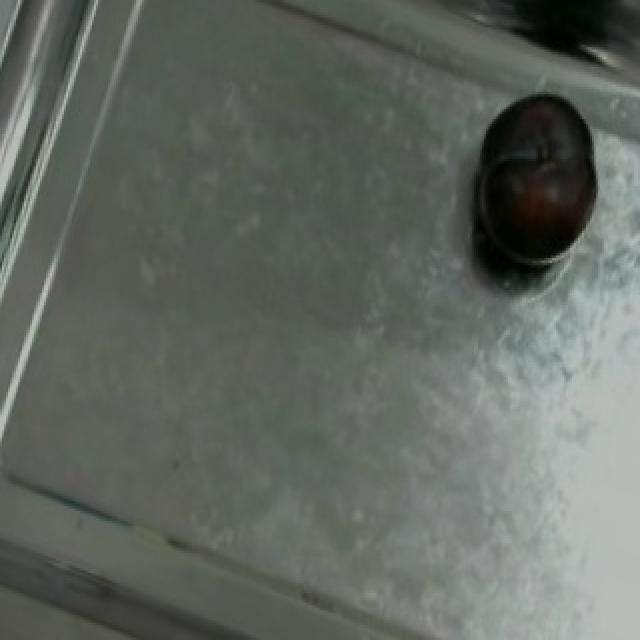Fruit: (460, 74, 620, 290)
